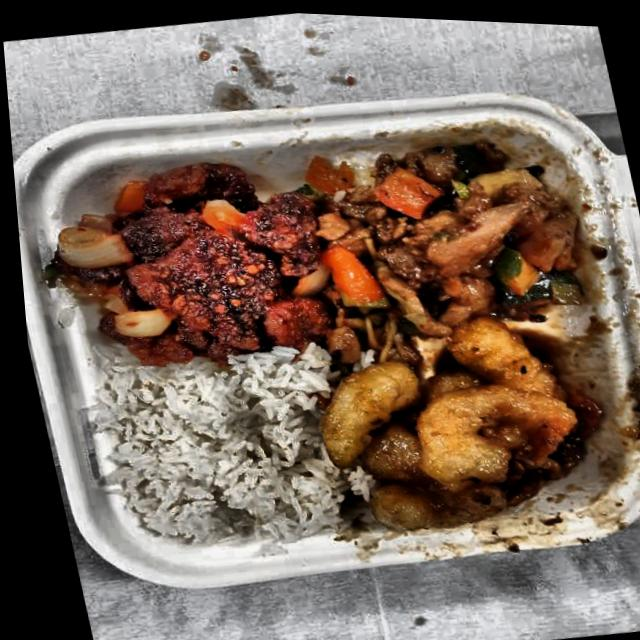Food: (287, 114, 616, 362), (26, 132, 345, 386), (292, 299, 608, 550), (80, 339, 342, 560)
